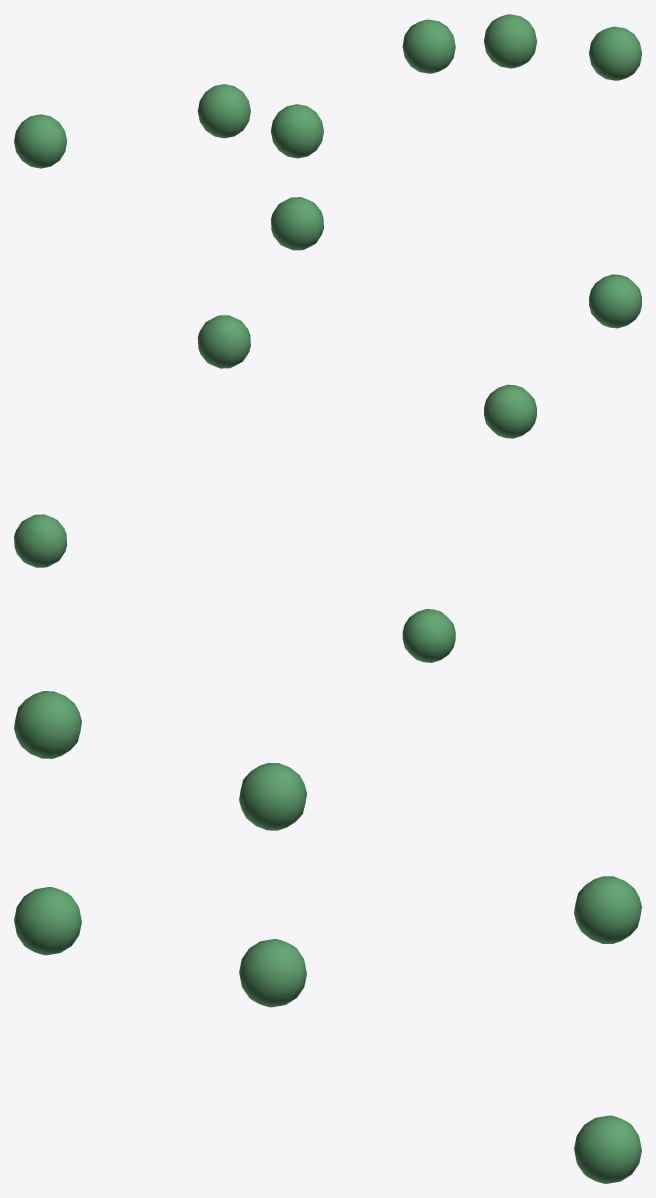
3 renders of one model, top to bottom at view 1: azimuth 30°, elevation 25°; view 2: azimuth 150°, elevation 25°; view 3: azimuth 270°, elevation 25°, orthographic. The views are drawn at different scales.
Visible parts, largest first — view 1: 颈前浅淋巴结; view 2: 颈前浅淋巴结; view 3: 颈前浅淋巴结.
Part boxes in pixels (x1=…): 颈前浅淋巴结: x1=14, y1=14, x2=641, y2=168; 颈前浅淋巴结: x1=14, y1=197, x2=641, y2=662; 颈前浅淋巴结: x1=14, y1=691, x2=641, y2=1183.
Bounding box in the file's own units: 0.0352 × 0.0165 × 0.035.
